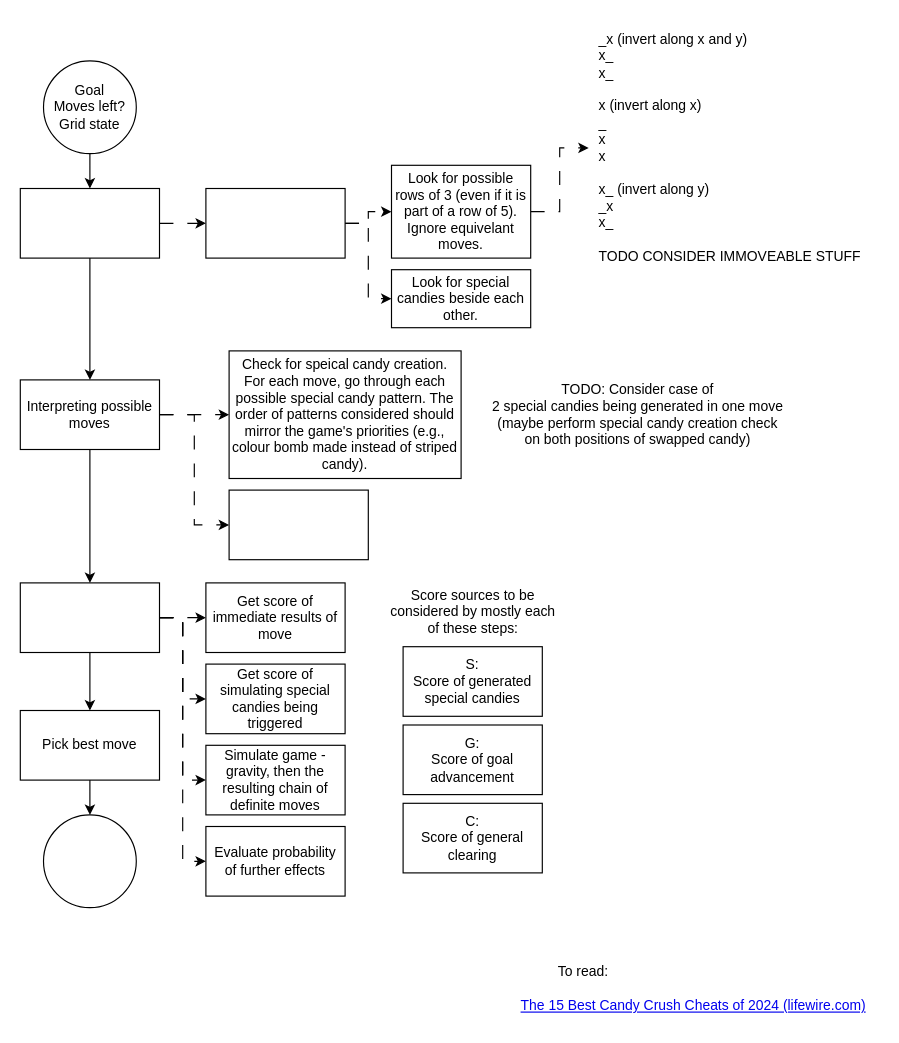
Image size: 899x1043. Some labels were removed from this diagram. Here are the shapes that lost their labels. From the top down, the centre of each, then its label:
At (89,222): "Get possible moves from state".
At (275,222): "Getting possible ways of moving candies".
At (298,524): "Check for special candy triggers.".
At (89,617): "Evaluate score of each move".
At (89,861): "Return move to make".
